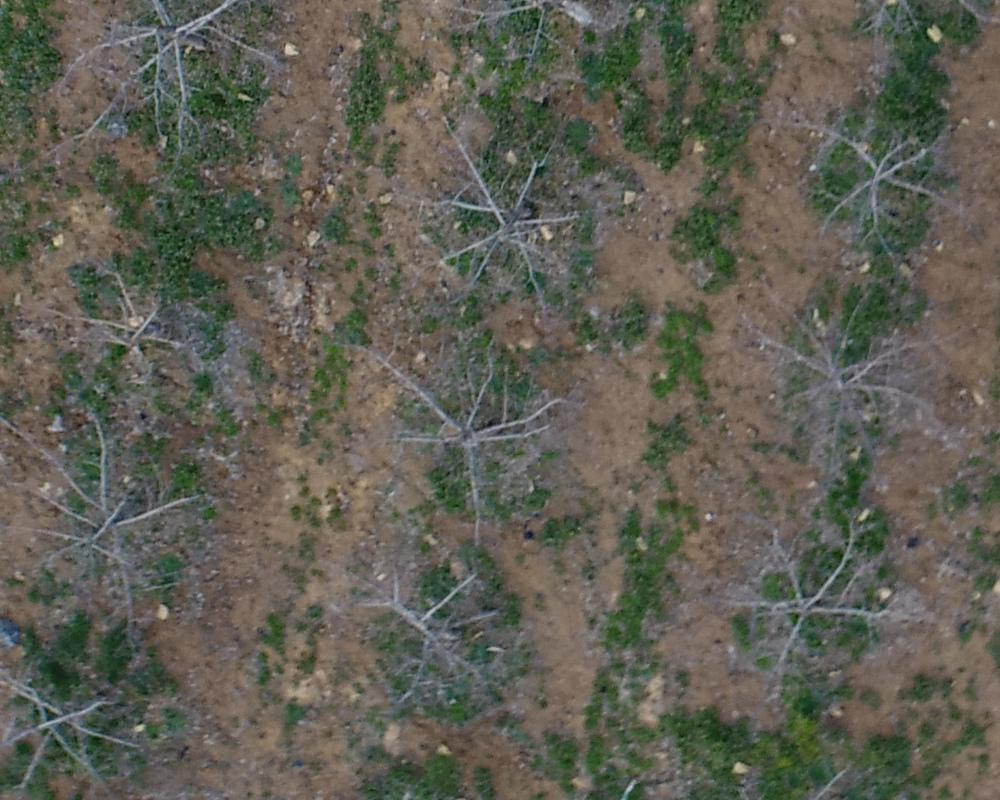apple: (10, 392, 237, 642), (386, 103, 637, 324), (345, 328, 595, 540), (720, 265, 966, 476), (750, 87, 990, 296), (696, 510, 952, 685), (37, 10, 323, 164), (25, 260, 248, 426), (325, 557, 554, 687), (10, 626, 170, 790)
